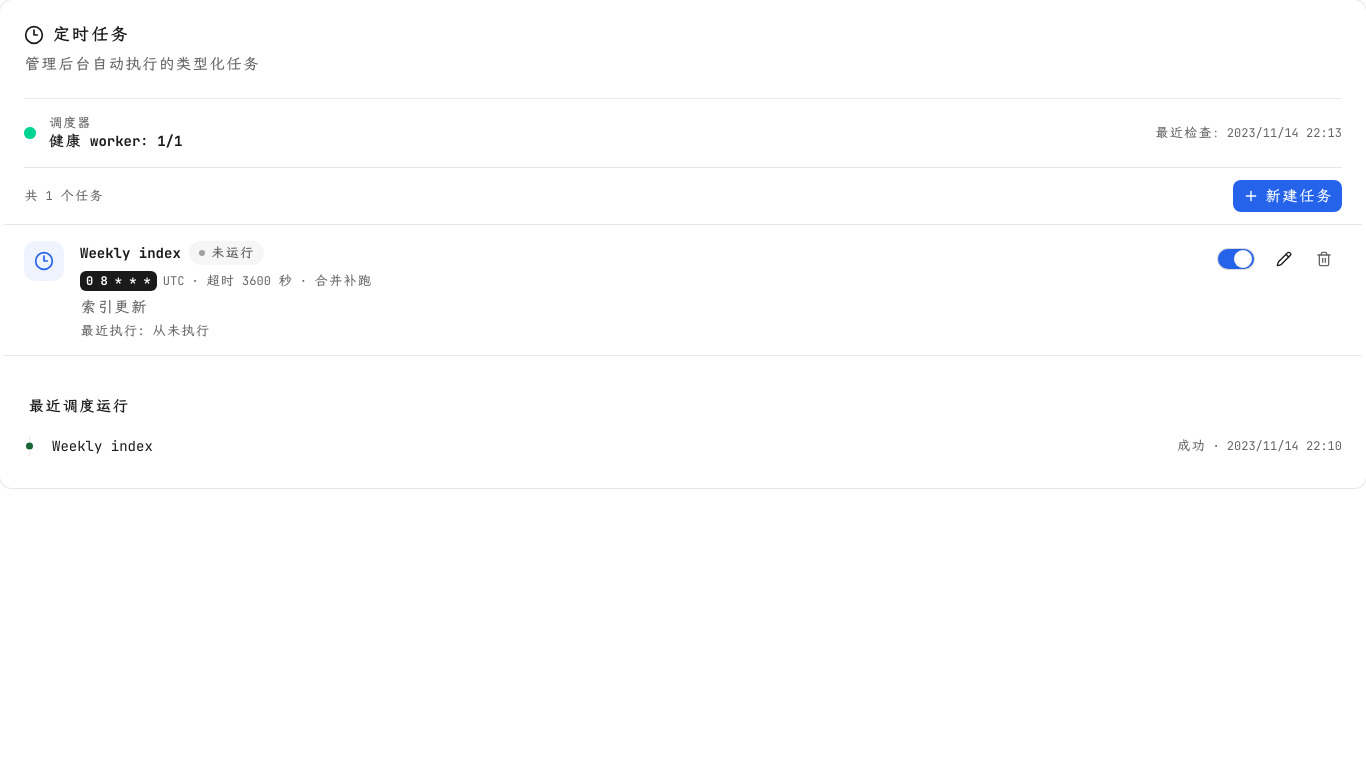
Test case: administrator mutation flow › updates and deletes a scheduled task
The image size is (1366, 768).
Check: the text "健康 worker：1/1" is shown, box [48,131,182,151]
Check: the text "成功 · 2023/11/14 22:10" is shown, box [1176,438,1342,454]
Click the switch named "停用定时任务 Weekly index": [1236, 259] box [1218,249,1254,269]
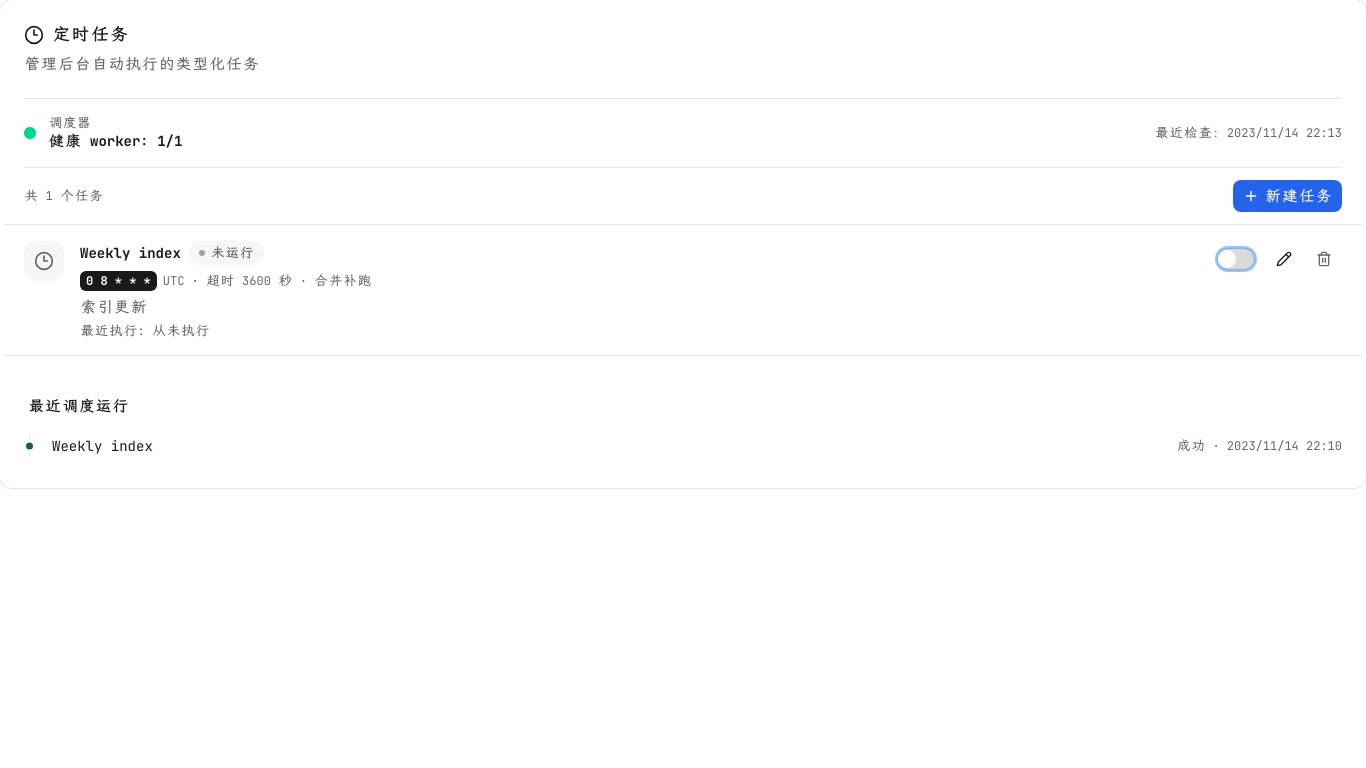
Check: the switch named "启用定时任务 Weekly index" is shown, box [1218,249,1254,269]
Click the button named "删除定时任务 Weekly index": [1324, 259] box [1306,241,1342,277]
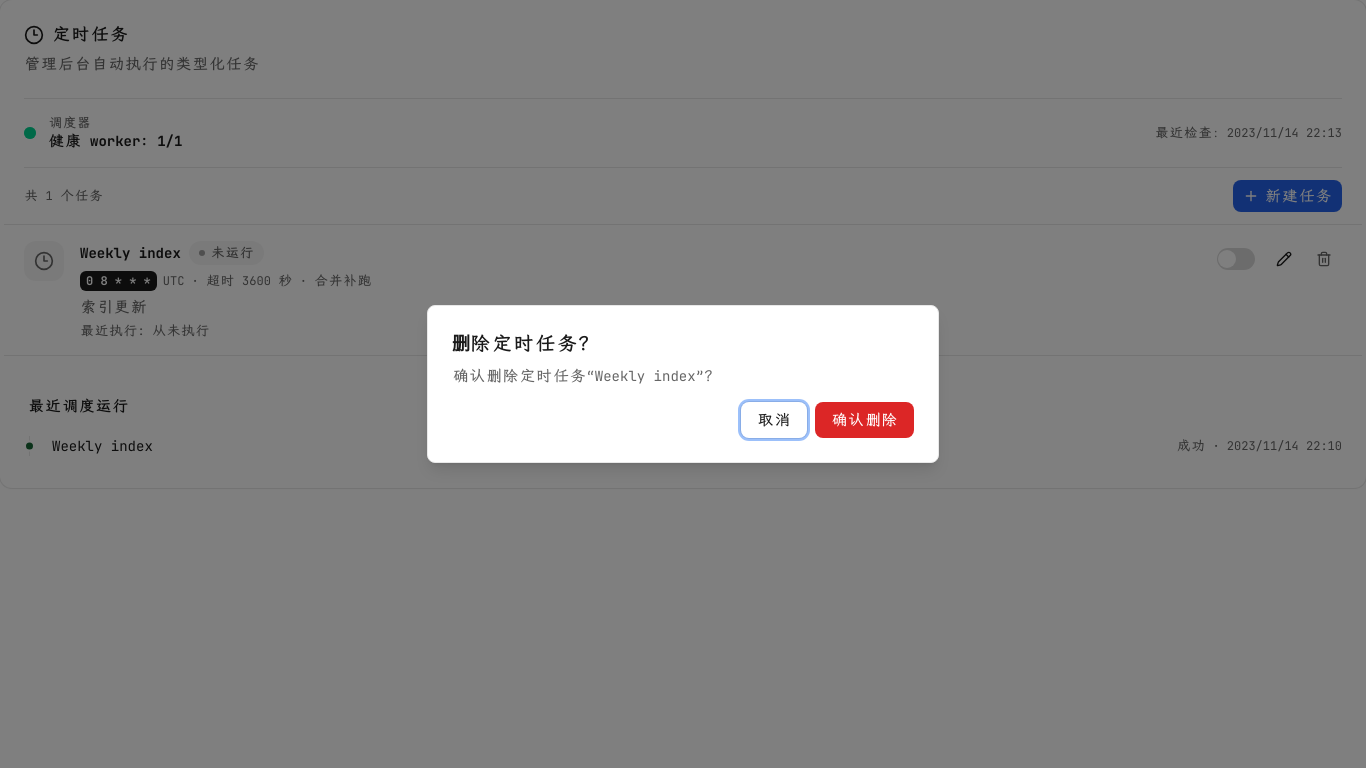
Check: the dialog "删除定时任务？" shows "Weekly index", box [452,367,721,385]
Click the button "确认删除": [864, 420] box [815,402,914,438]
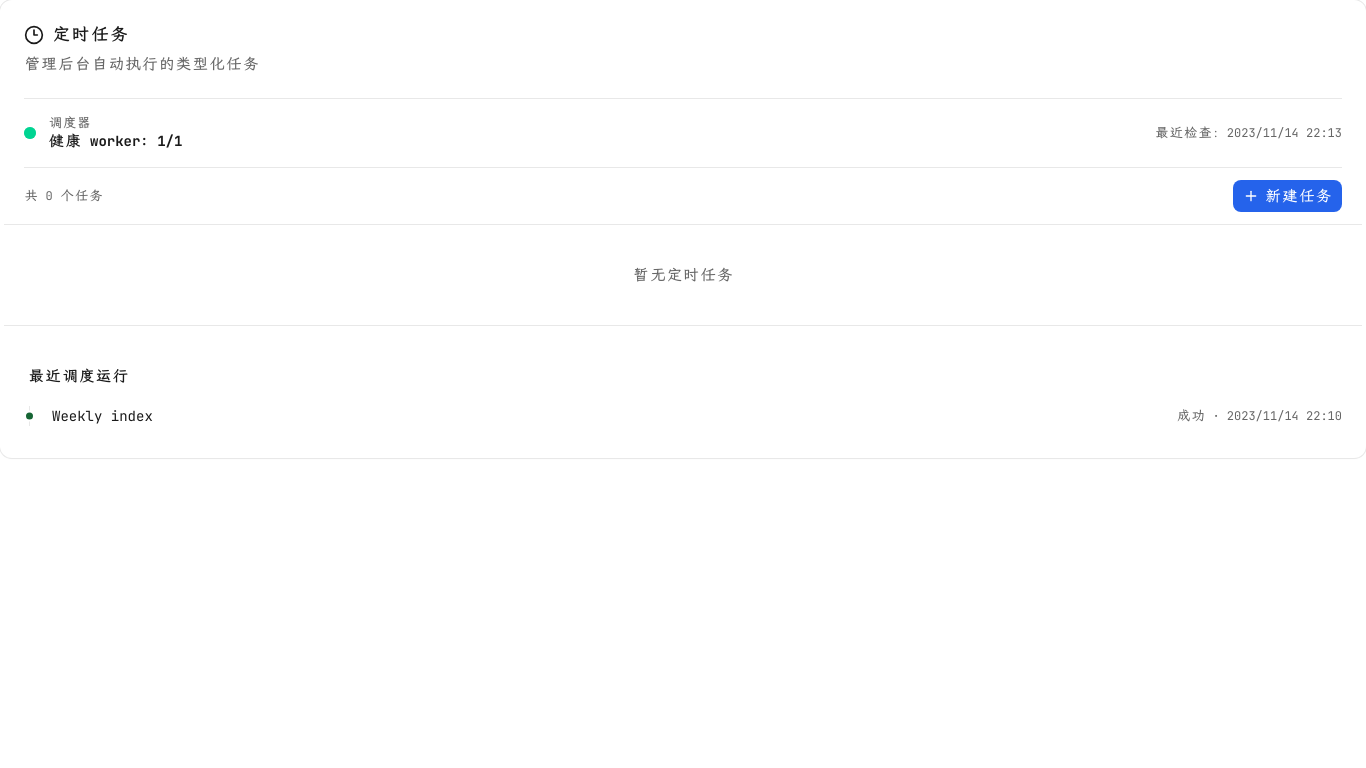
Check: the text "暂无定时任务" is shown, box [633,266,733,284]
